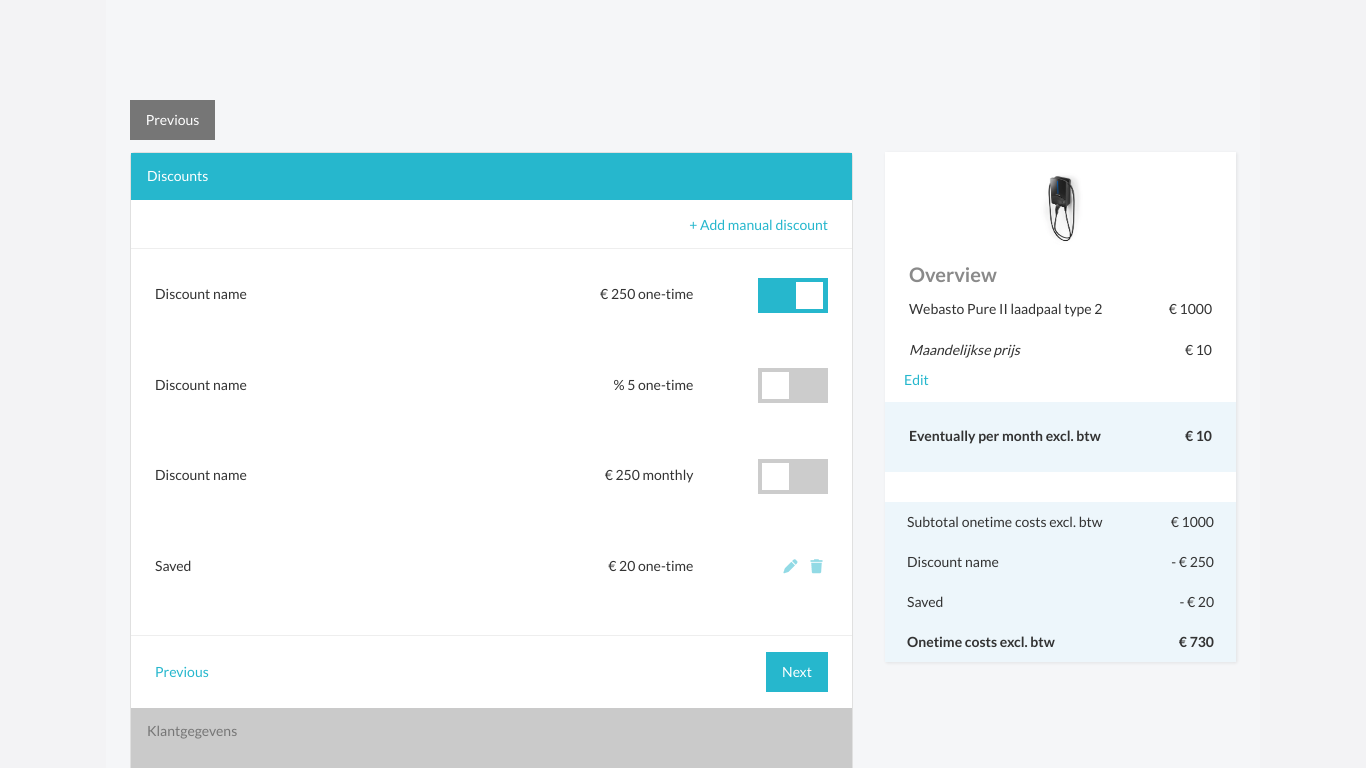
Test: DiscountsPage › deletes a manual discount
The image size is (1366, 768).
Expected: the number of list items is 4, x1=155 y1=278 x2=828 y2=313; x1=155 y1=368 x2=828 y2=404; x1=155 y1=459 x2=828 y2=494; x1=155 y1=546 x2=836 y2=586
Click the 2nd button named "Delete".
click(816, 566)  # box x1=797 y1=546 x2=836 y2=586
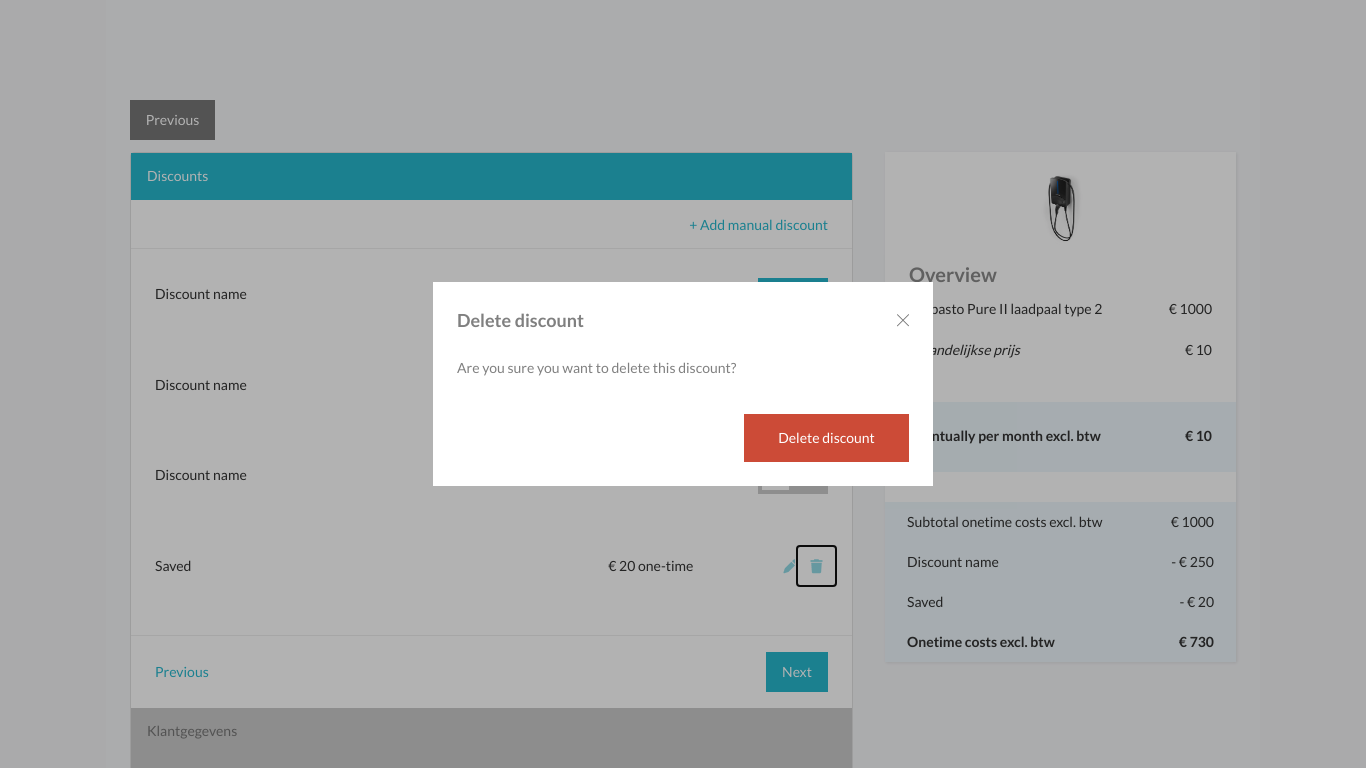
Click the button "Delete discount".
click(826, 438)  # box x1=744 y1=414 x2=909 y2=462
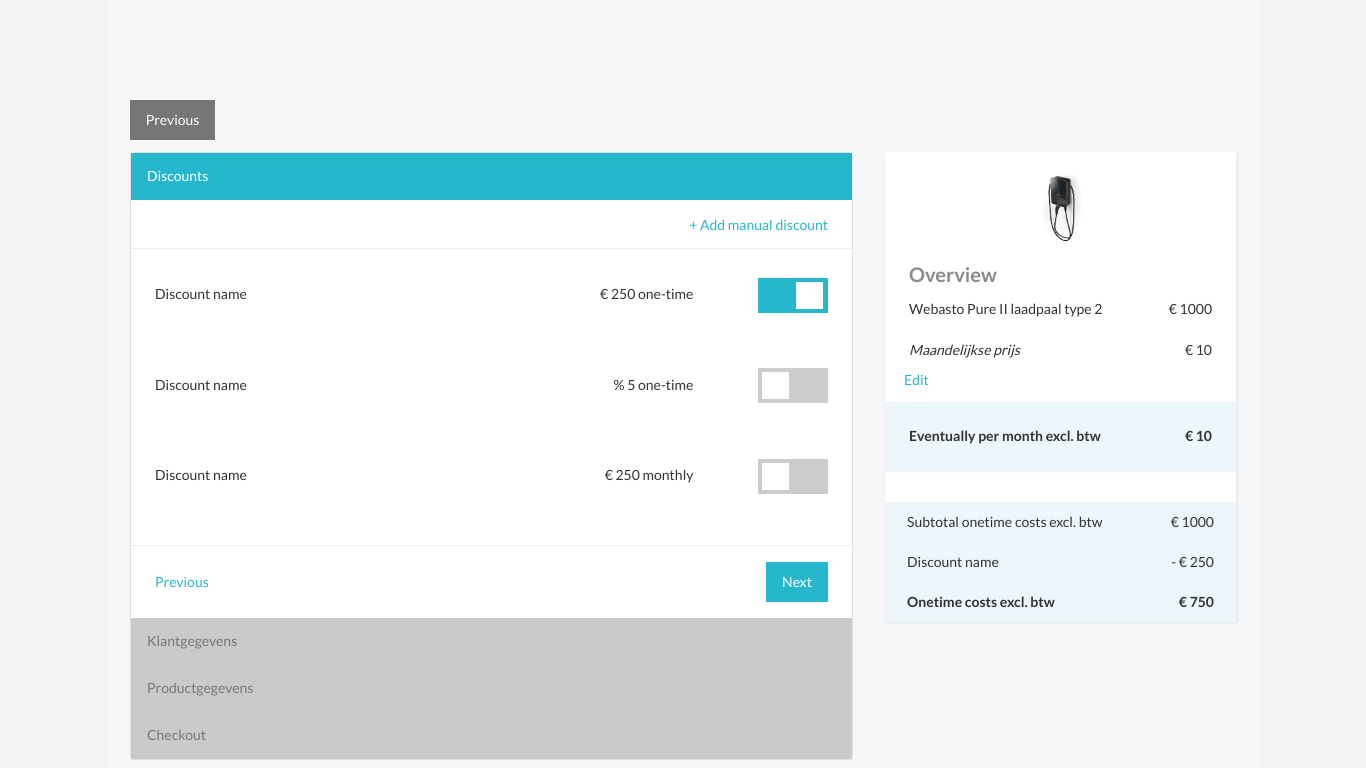
Now the number of list items is 3, box x1=155 y1=278 x2=828 y2=313; x1=155 y1=368 x2=828 y2=404; x1=155 y1=459 x2=828 y2=494
